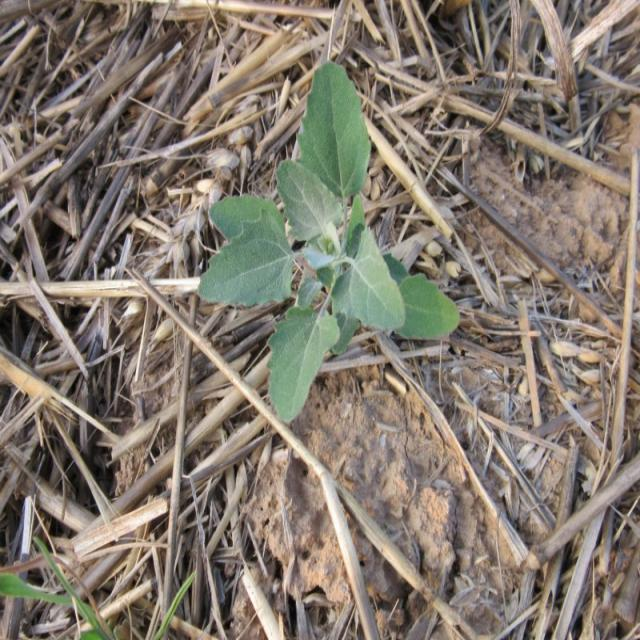ca: (203, 60, 459, 416)
